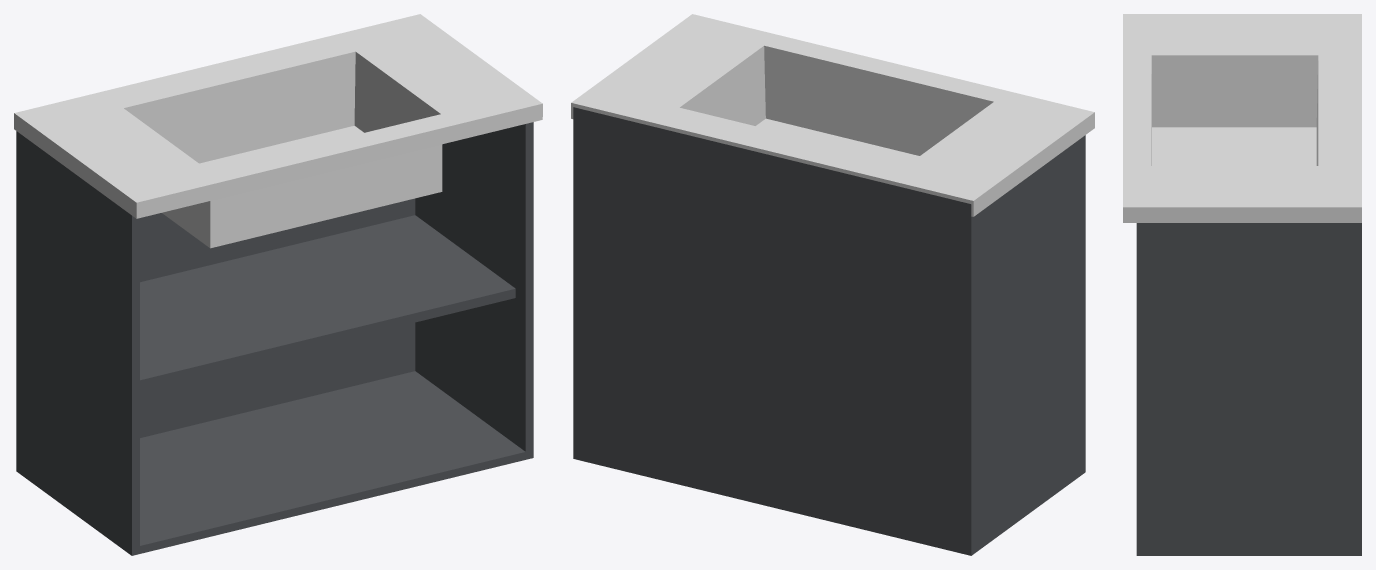
The model's file is Bathroom_C3_08.fbx.
3 views of the same model, side by side, from view 1: azimuth 30°, elevation 25°; view 2: azimuth 150°, elevation 25°; view 3: azimuth 270°, elevation 25° (orthographic). The views are drawn at different scales.
Parts seen in each view (by area): view 1: Bathroom_C3_08; view 2: Bathroom_C3_08; view 3: Bathroom_C3_08.
Part boxes in pixels (x1,y1,x2,y2): Bathroom_C3_08: (14, 14, 542, 555); Bathroom_C3_08: (571, 14, 1094, 555); Bathroom_C3_08: (1123, 14, 1361, 555).
Size of the model in its own units: 91 by 76.82 by 47.51.
